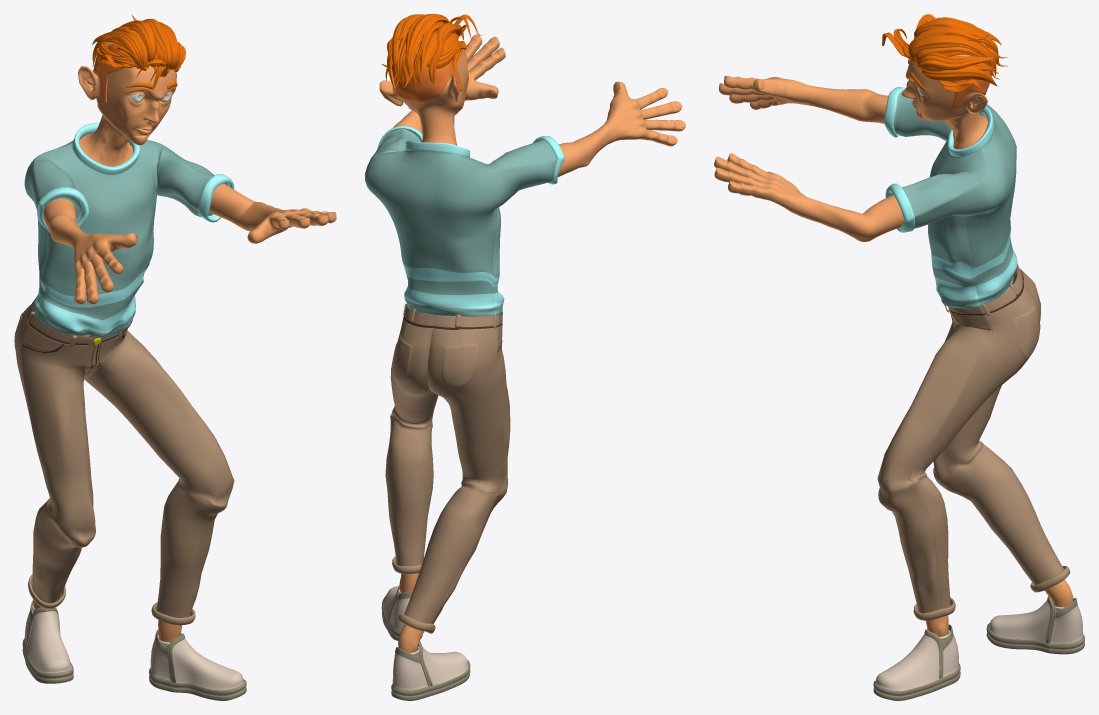
The model's file is per_simon.glb.
3 views of the same model, side by side, from view 1: azimuth 30°, elevation 25°; view 2: azimuth 150°, elevation 25°; view 3: azimuth 270°, elevation 25° (orthographic). The views are drawn at different scales.
Visible parts, largest first — view 1: Pantalon_Simon, CamisetaSimon, CabezaSimon, PieIzquierdo, BrazoDerecho, BrazoIzquierdo, PieDerecho, NurbsPath.020, NurbsPath.023, NurbsPath; view 2: Pantalon_Simon, CamisetaSimon, BrazoDerecho, PieDerecho, CabezaSimon, BrazoIzquierdo, BaseCabello, PieIzquierdo, NurbsPath.020, NurbsPath.023; view 3: Pantalon_Simon, CamisetaSimon, BrazoIzquierdo, PieDerecho, BrazoDerecho, PieIzquierdo, CabezaSimon, NurbsPath.022, NurbsPath.010, NurbsPath.020, NurbsPath.002.
Boxes of the visible parts, bbox=[...] form: Pantalon_Simon: bbox=[14, 298, 234, 625]; CamisetaSimon: bbox=[24, 122, 234, 340]; CabezaSimon: bbox=[78, 42, 176, 166]; PieIzquierdo: bbox=[149, 620, 246, 700]; BrazoDerecho: bbox=[43, 198, 137, 304]; BrazoIzquierdo: bbox=[209, 183, 336, 243]; PieDerecho: bbox=[22, 599, 73, 683]; NurbsPath.020: bbox=[119, 20, 156, 61]; NurbsPath.023: bbox=[92, 32, 142, 64]; NurbsPath: bbox=[132, 15, 171, 67]; Pantalon_Simon: bbox=[385, 303, 510, 633]; CamisetaSimon: bbox=[365, 125, 564, 316]; BrazoDerecho: bbox=[557, 81, 685, 176]; PieDerecho: bbox=[391, 624, 470, 700]; CabezaSimon: bbox=[379, 51, 468, 145]; BrazoIzquierdo: bbox=[393, 34, 505, 133]; BaseCabello: bbox=[391, 45, 462, 103]; PieIzquierdo: bbox=[381, 573, 422, 640]; NurbsPath.020: bbox=[405, 14, 449, 81]; NurbsPath.023: bbox=[428, 22, 458, 84]; Pantalon_Simon: bbox=[877, 264, 1070, 620]; CamisetaSimon: bbox=[883, 87, 1017, 309]; BrazoIzquierdo: bbox=[714, 153, 903, 241]; PieDerecho: bbox=[986, 579, 1084, 654]; BrazoDerecho: bbox=[719, 75, 888, 123]; PieIzquierdo: bbox=[873, 615, 960, 700]; CabezaSimon: bbox=[902, 54, 987, 148]; NurbsPath.022: bbox=[909, 35, 998, 73]; NurbsPath.010: bbox=[917, 53, 995, 69]; NurbsPath.020: bbox=[914, 19, 1007, 58]; NurbsPath.002: bbox=[921, 67, 997, 86].
Size of the model in its own units: 0.6293 by 1.6 by 0.8286.
